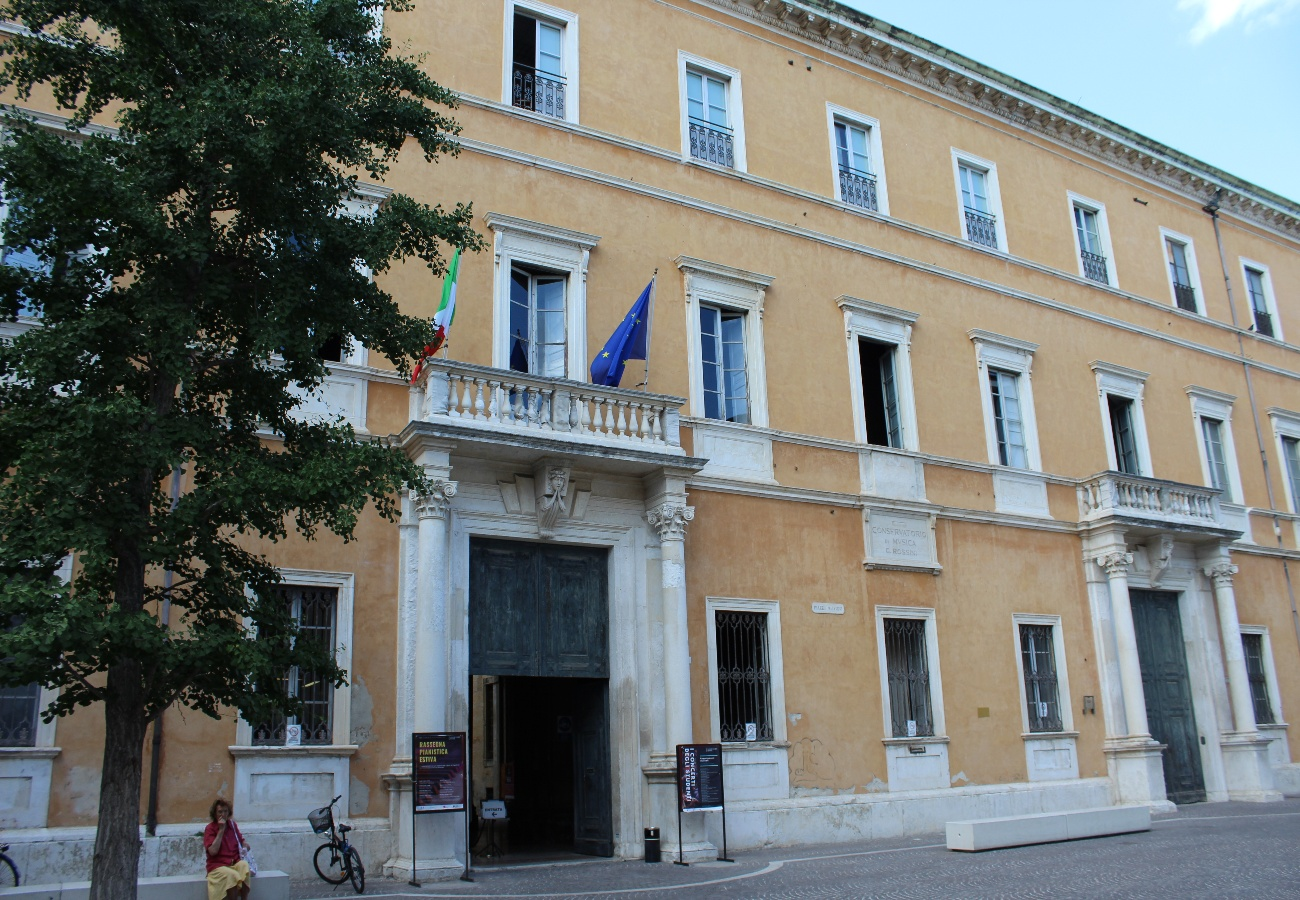Palazzo Olivieri: (38, 15, 1277, 844)
